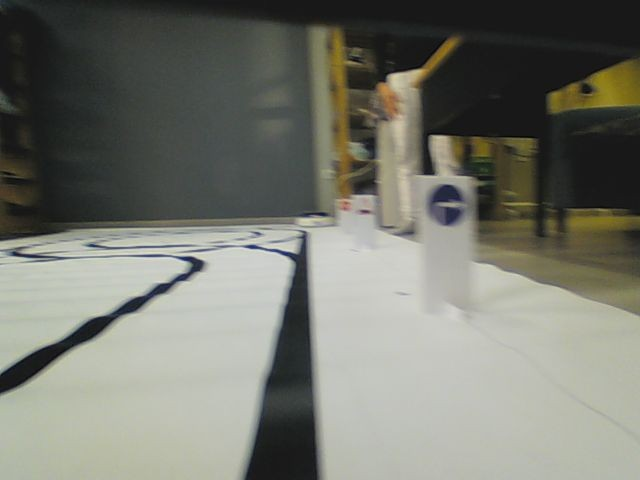Right: (428, 183, 467, 226)
